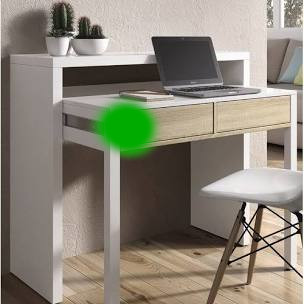focus: (94, 101, 161, 157)
